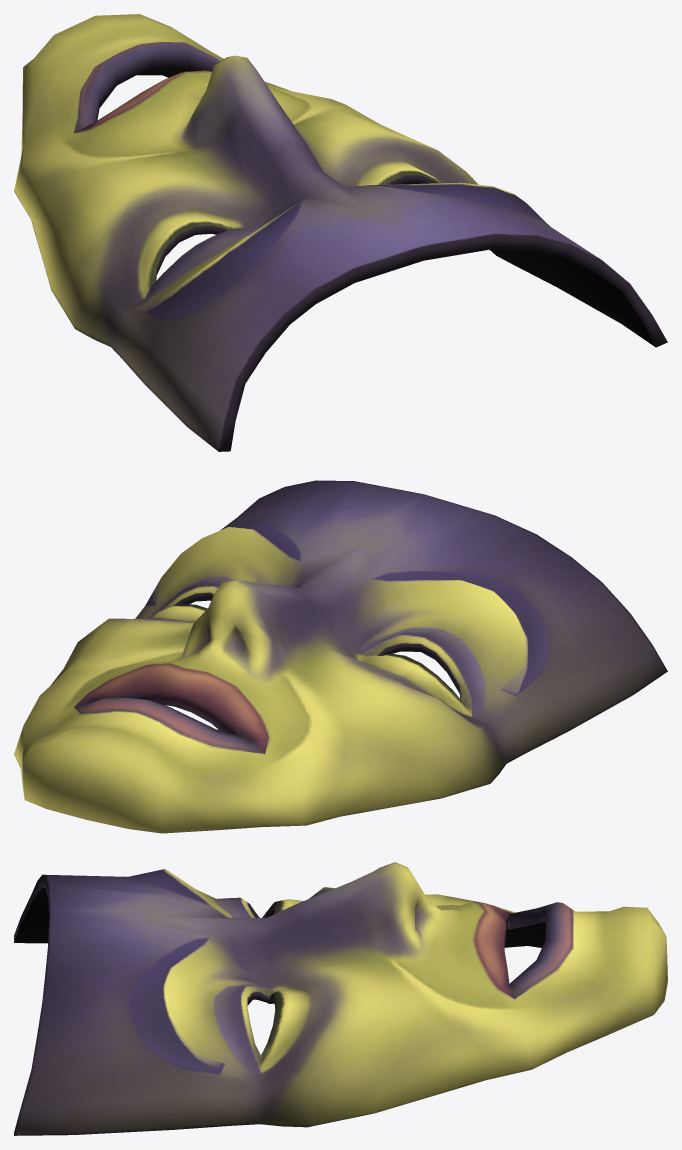
Rendered from anim1_000005.obj.
3 renders of one model, top to bottom at view 1: azimuth 30°, elevation 25°; view 2: azimuth 150°, elevation 25°; view 3: azimuth 270°, elevation 25°, orthographic. The views are drawn at different scales.
Parts seen in each view (by area): view 1: 151out; view 2: 151out; view 3: 151out.
Boxes of the visible parts, x1=… form: 151out: x1=14, y1=14, x2=667, y2=451; 151out: x1=14, y1=480, x2=667, y2=833; 151out: x1=14, y1=862, x2=667, y2=1135.
Size of the model in its own units: 4.16 by 1.7 by 5.74.
